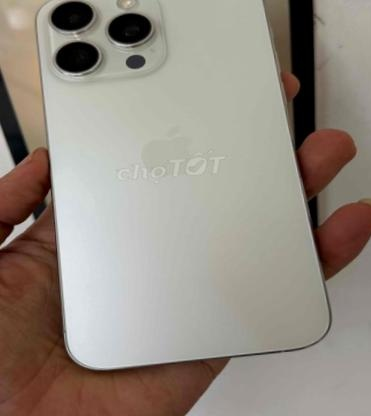scratch: (40, 0, 166, 81)
